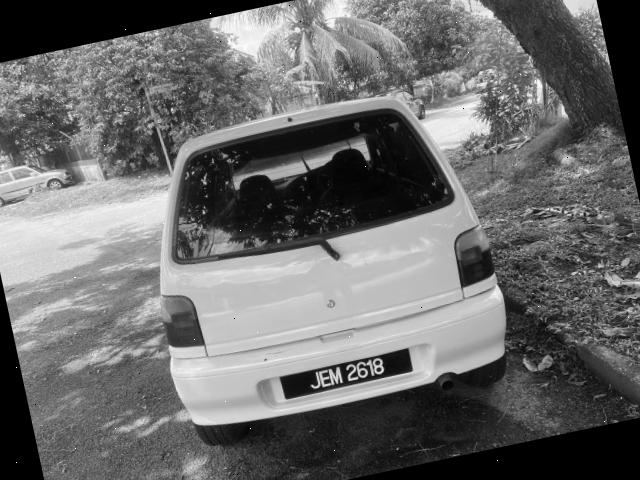License_Plate: (290, 353, 405, 400)
car: (118, 69, 531, 453)
